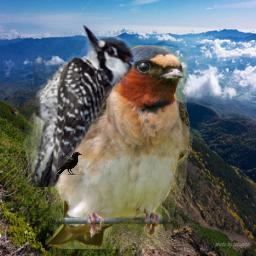Crow: (55, 151, 82, 176)
Swallow: (45, 45, 194, 249)
Woodpecker: (2, 19, 135, 187)
